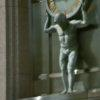Statue: (34, 5, 92, 84)
